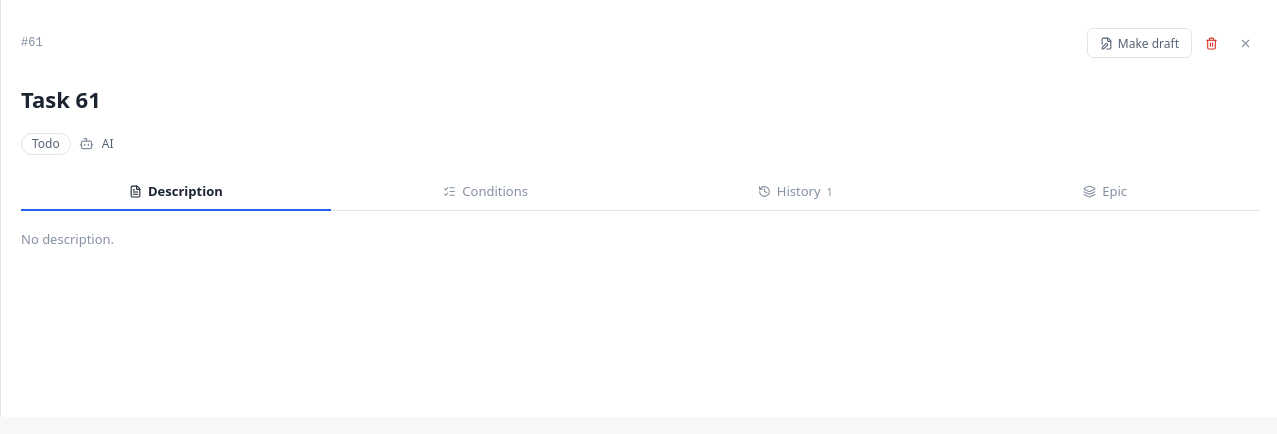
Test: epic tab › shows the epic plan of the task in the epic tab
The image size is (1277, 434).
Click the tab "Epic".
click(1105, 192)  # box x1=950 y1=173 x2=1260 y2=211
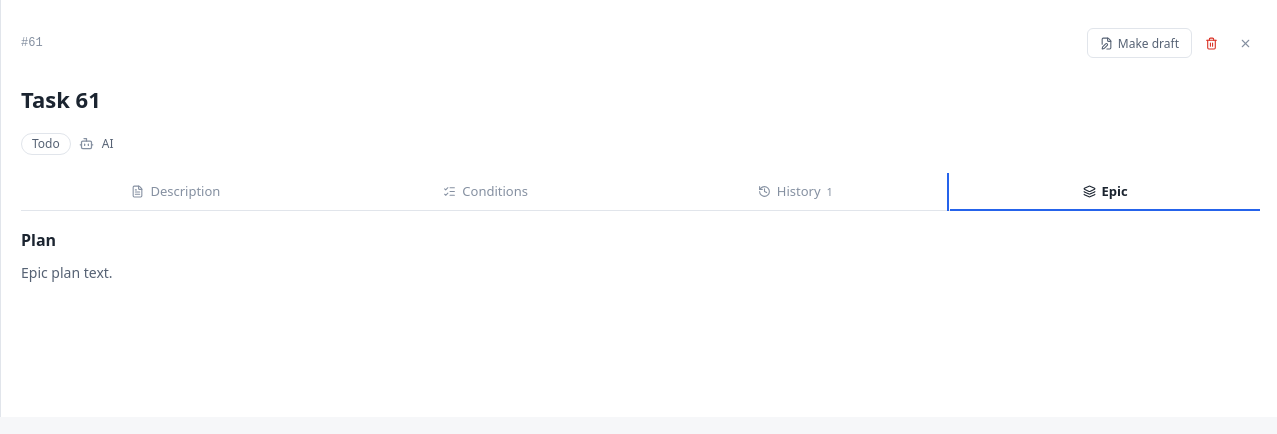
Check: the text "Epic plan text." is shown, box x1=21 y1=263 x2=113 y2=282
